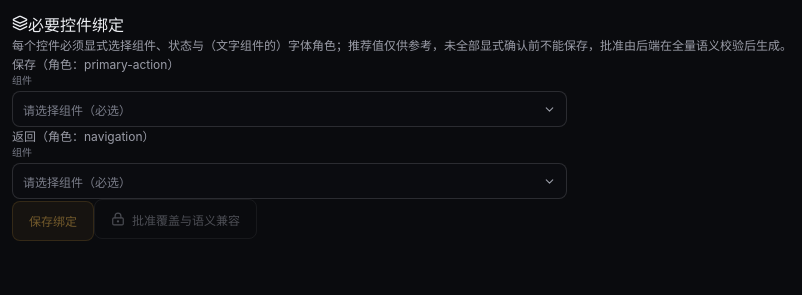
BindingWorkbench（REM-01 / F-01 显式选择） › 语义不兼容的组件被禁用并显示原因
Click the dropdown with class "dropdown-button" below "返回": coordinates (289, 181) x1=12 y1=163 x2=567 y2=199
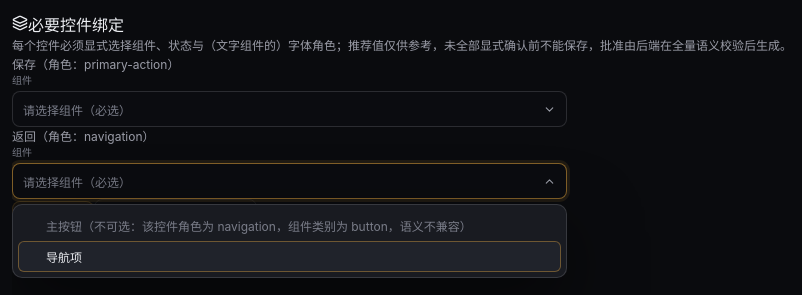
Expected: the option with class "dropdown-option" shows "语义不兼容", x1=46 y1=219 x2=472 y2=234
